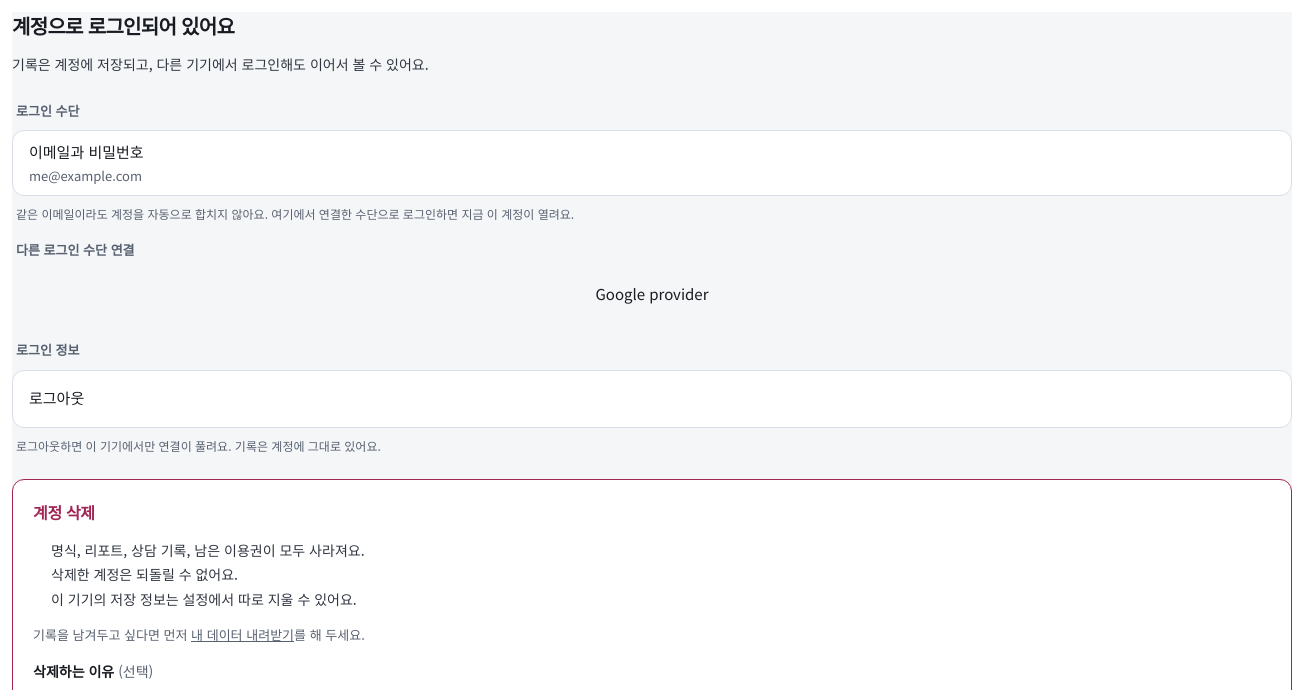
Test: account login methods › explains IDENTITY_ALREADY_LINKED after a provider credential is sent for linking
Step 1. Click the button "Google provider" → (652, 294), box [596,272,708,316]
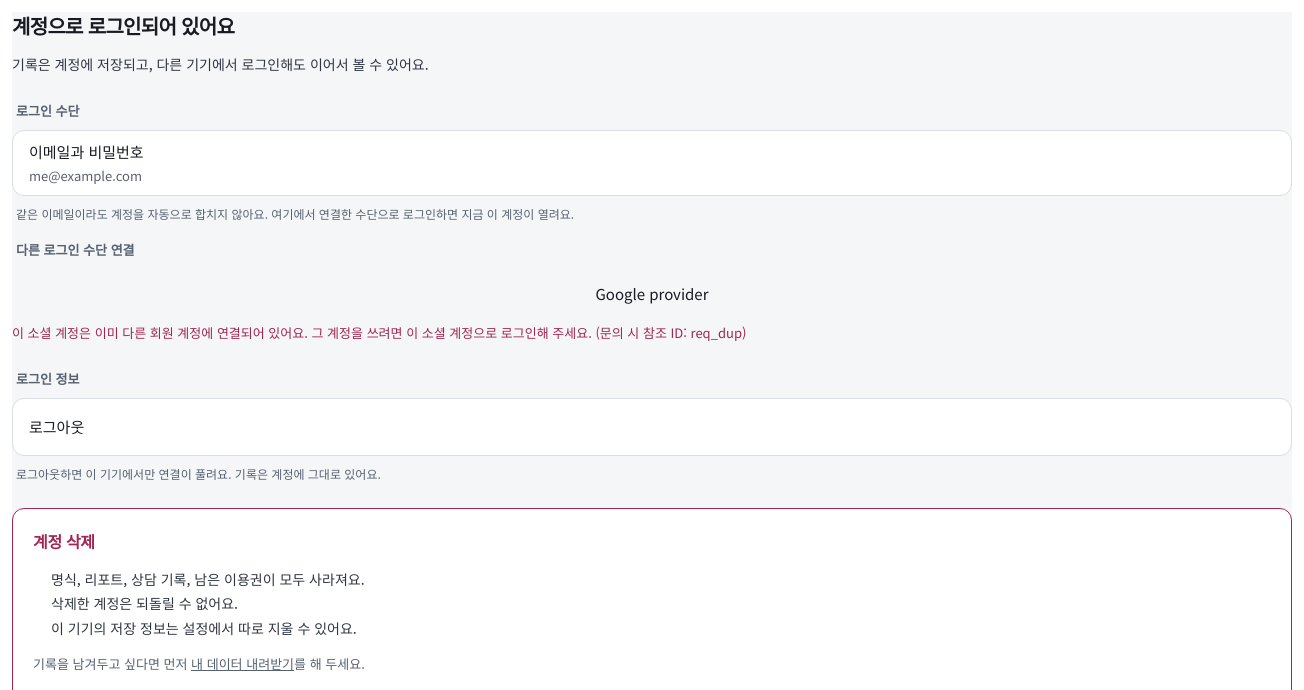
Result: the message shows "이 소셜 계정은 이미 다른 회원 계정에 연결되어 있어요." at [12,324,746,342]
